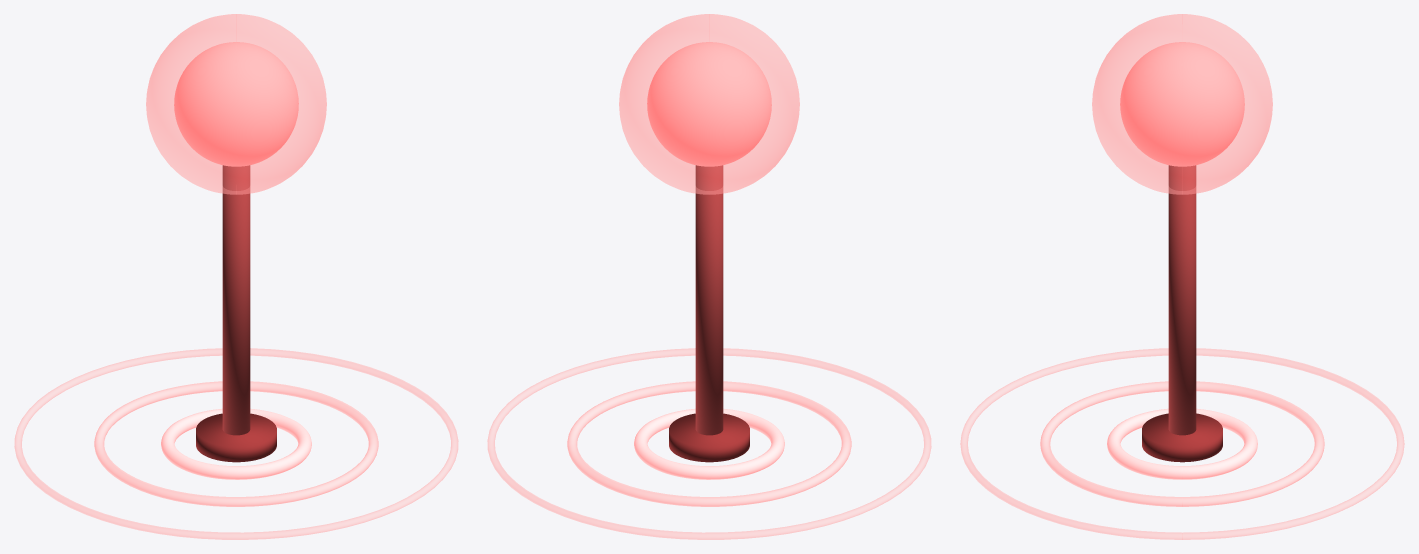
Rendered from map-pin-selected.glb.
3 renders of one model, left to right at view 1: azimuth 30°, elevation 25°; view 2: azimuth 150°, elevation 25°; view 3: azimuth 270°, elevation 25°, orthographic.
Parts seen in each view (by area): view 1: Glow, Cap, Pulse2, Column, Pulse1, Pulse0, Base; view 2: Glow, Cap, Pulse2, Column, Pulse1, Pulse0, Base; view 3: Glow, Cap, Pulse2, Column, Pulse1, Pulse0, Base.
Part boxes in pixels (x1,y1,x2,y2): Glow: (146,14,326,194); Cap: (174,42,298,166); Pulse2: (14,348,458,539); Column: (222,165,250,435); Pulse1: (94,381,378,506); Pulse0: (161,408,311,479); Base: (196,413,276,462); Glow: (619,14,799,194); Cap: (647,42,771,166); Pulse2: (487,348,931,539); Column: (695,165,723,435); Pulse1: (567,381,851,506); Pulse0: (634,408,784,479); Base: (669,413,749,462); Glow: (1092,14,1272,194); Cap: (1120,42,1244,166); Pulse2: (960,348,1404,539); Column: (1168,165,1196,435); Pulse1: (1040,381,1324,506); Pulse0: (1107,408,1257,479); Base: (1142,413,1222,462).
Size of the model in its own units: 1.42 by 1.51 by 1.42.
